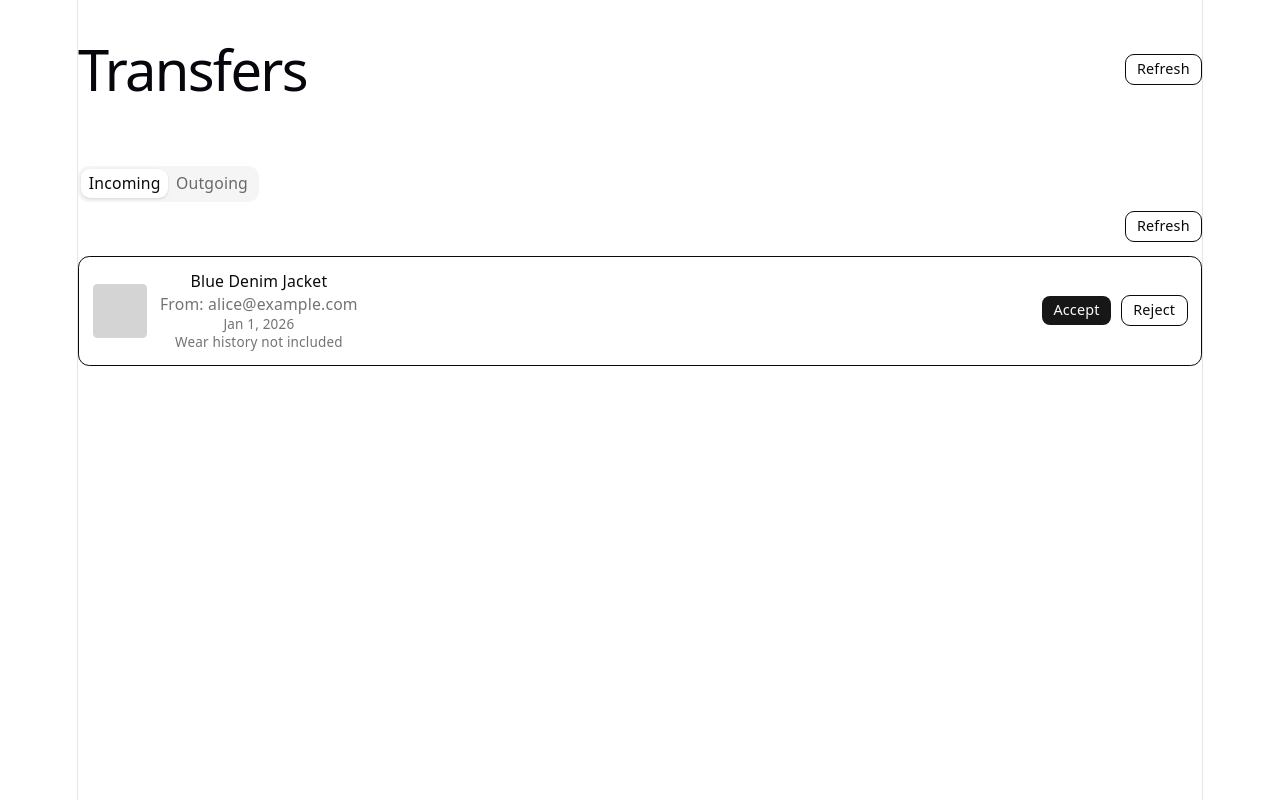
it: TransfersPage › TransfersPage should show outgoing empty state within the Outgoing tab panel
Expected: the tab "Incoming" is shown, 81,169 -> 168,198
Click the tab "Outgoing": (212, 184) 168,169 -> 256,198
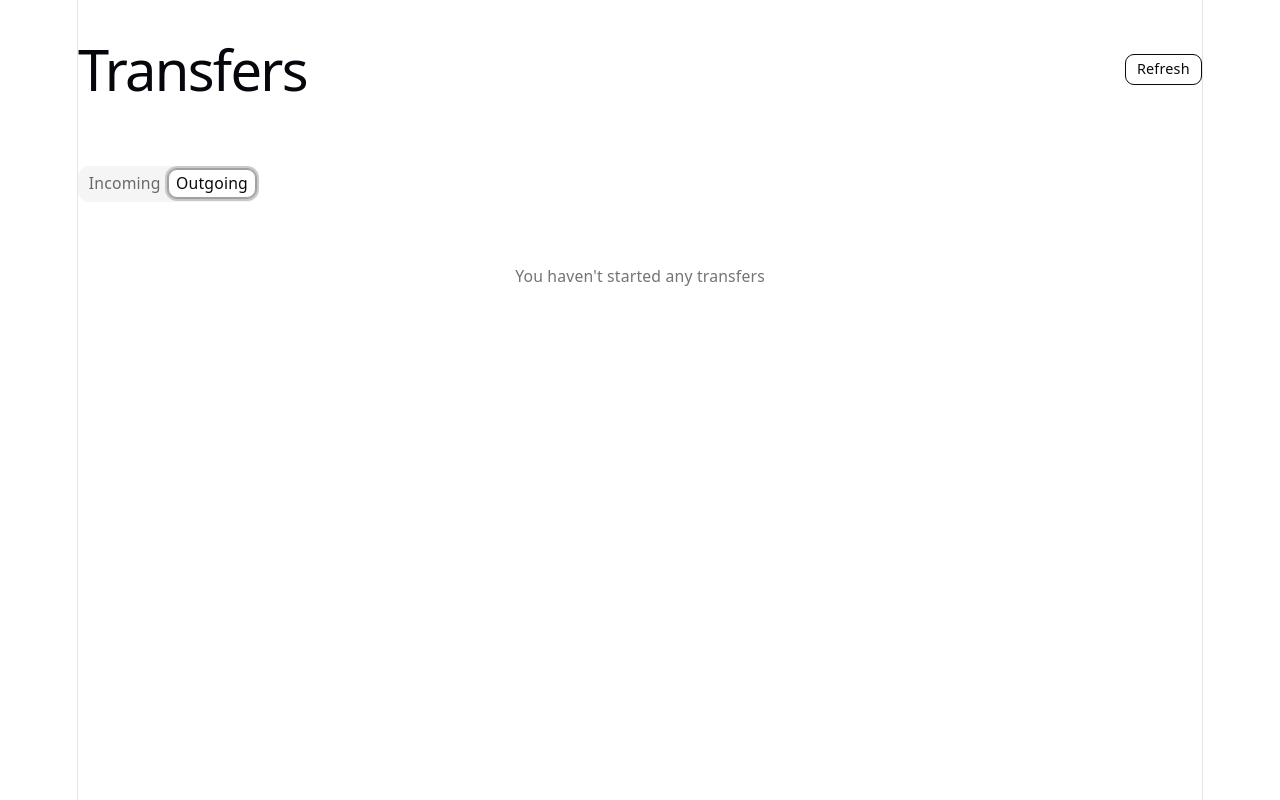
Expected: the element with test id "outgoing-transfers-empty" is shown, 515,265 -> 765,287
